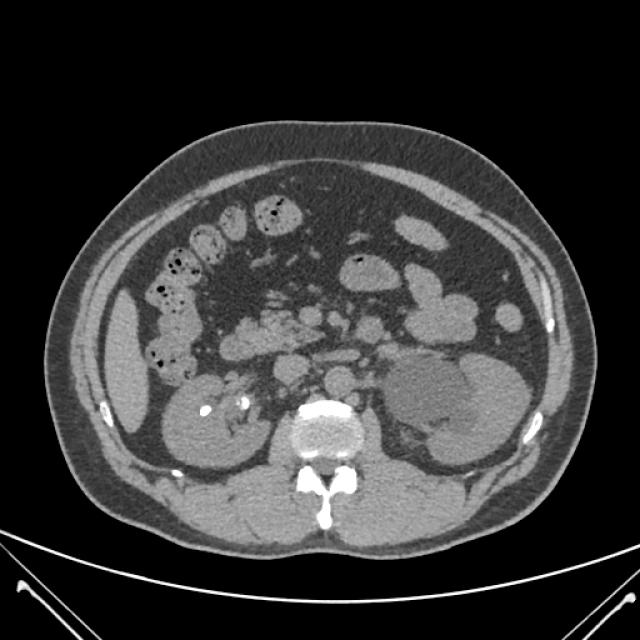kidneystone: (199, 405, 212, 417), (241, 396, 250, 408)
